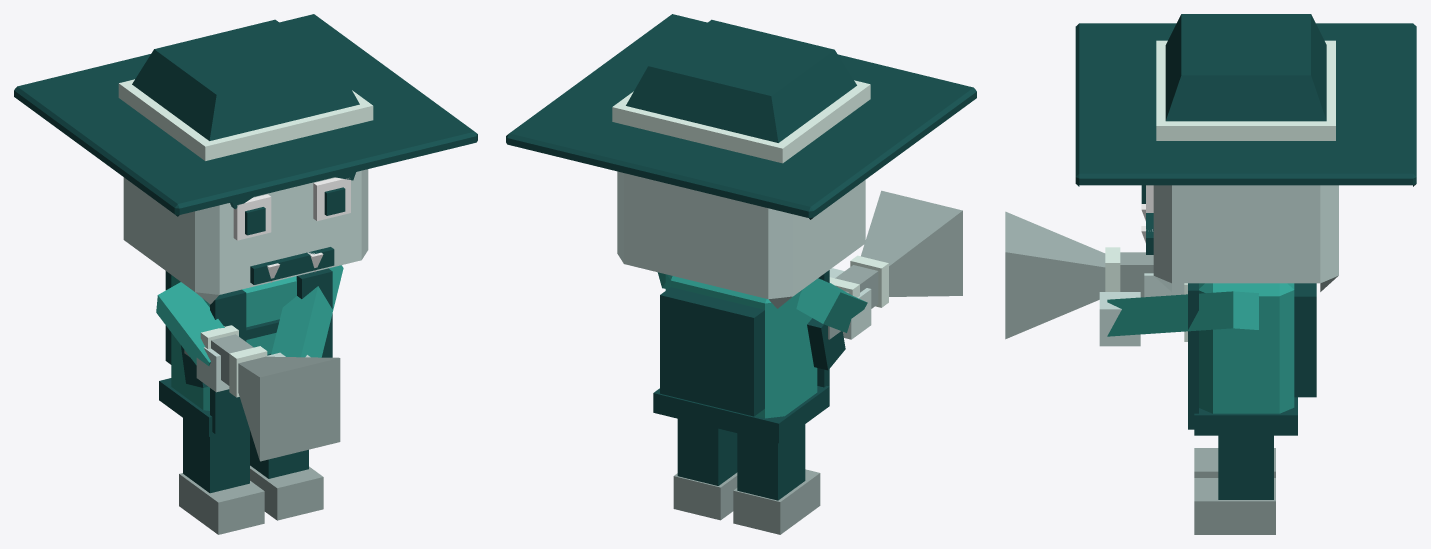
Rendered from shotgunner_r14.glb.
3 renders of one model, left to right at view 1: azimuth 30°, elevation 25°; view 2: azimuth 150°, elevation 25°; view 3: azimuth 270°, elevation 25°, orthographic. The views are drawn at different scales.
Visible parts, largest first — view 1: shotgunner_r14_mesh; view 2: shotgunner_r14_mesh; view 3: shotgunner_r14_mesh.
Boxes of the visible parts, bbox=[...] form: shotgunner_r14_mesh: bbox=[14, 14, 477, 534]; shotgunner_r14_mesh: bbox=[506, 14, 976, 534]; shotgunner_r14_mesh: bbox=[1005, 14, 1416, 534].
Size of the model in its own units: 1.07 by 1.5 by 1.21.
Materials: 1 (1 with a texture image).
